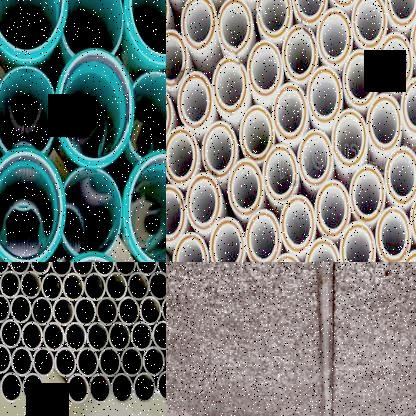pipe: (55, 48, 134, 166), (0, 147, 66, 262), (61, 167, 122, 256), (0, 66, 56, 153), (123, 151, 166, 262), (0, 1, 67, 62), (126, 71, 166, 161), (61, 0, 123, 57), (126, 0, 166, 66), (349, 164, 386, 223), (332, 108, 367, 170), (280, 195, 316, 255), (228, 158, 264, 218), (262, 144, 298, 204), (272, 82, 308, 142), (307, 66, 343, 126), (212, 56, 248, 116), (378, 32, 414, 92), (315, 180, 351, 239), (298, 129, 334, 188), (282, 24, 318, 83), (316, 8, 352, 67), (186, 172, 221, 232), (366, 94, 402, 152), (343, 50, 379, 108), (247, 40, 283, 98), (202, 121, 237, 180), (375, 206, 411, 262), (217, 0, 253, 56), (240, 105, 274, 164), (178, 72, 212, 130), (384, 146, 416, 207), (166, 126, 198, 186), (246, 209, 281, 262), (351, 0, 387, 51), (181, 0, 216, 51), (210, 217, 245, 262), (340, 222, 376, 262), (256, 0, 292, 40), (166, 29, 188, 89), (166, 184, 186, 244), (173, 232, 209, 262), (384, 0, 416, 29), (292, 0, 328, 25), (304, 238, 341, 262), (401, 77, 416, 136), (142, 346, 166, 377), (133, 372, 156, 404), (66, 374, 90, 404), (120, 347, 143, 378), (108, 321, 131, 352), (11, 346, 33, 378), (89, 374, 112, 404), (54, 348, 77, 378), (76, 348, 99, 378), (86, 322, 109, 352), (111, 373, 133, 404), (0, 372, 22, 403), (32, 347, 54, 378), (99, 347, 121, 378), (130, 321, 152, 352), (21, 321, 43, 352), (118, 296, 140, 326), (10, 294, 32, 324), (84, 272, 106, 302), (20, 270, 42, 300), (22, 374, 44, 404), (64, 322, 86, 352), (43, 322, 65, 352), (0, 320, 22, 350), (74, 297, 96, 326), (96, 297, 118, 326), (140, 296, 162, 325), (41, 272, 63, 301), (106, 272, 128, 301), (127, 272, 149, 301), (63, 272, 84, 302), (53, 297, 74, 326), (32, 296, 52, 326), (0, 270, 20, 299), (148, 270, 166, 300), (152, 320, 166, 350), (166, 86, 173, 144), (0, 344, 11, 374), (71, 262, 93, 276), (50, 262, 72, 276), (93, 262, 115, 276), (114, 262, 136, 276), (156, 371, 166, 401), (0, 294, 10, 323), (136, 262, 157, 275), (30, 262, 51, 275), (9, 262, 30, 275), (161, 295, 166, 325), (156, 262, 166, 275), (0, 262, 9, 275)
